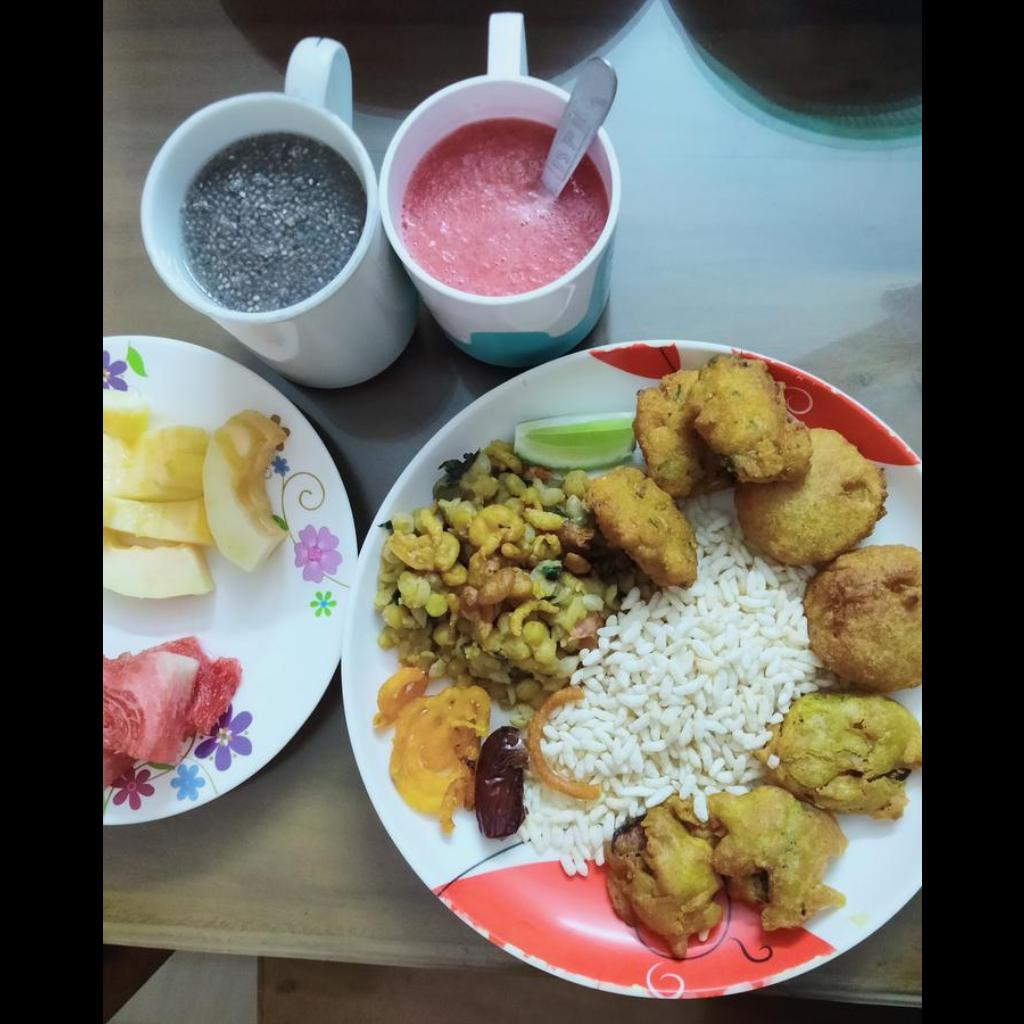chop-alu: (591, 358, 920, 917), (606, 808, 724, 958)
daal: (374, 441, 633, 707)
dates: (472, 727, 527, 835)
jilapi: (372, 664, 488, 833)
juice: (398, 118, 606, 295), (179, 133, 364, 312)
lemon: (513, 412, 633, 472)
puffed-rice: (523, 497, 826, 872)
watermelon: (102, 412, 292, 602), (102, 633, 240, 773)
